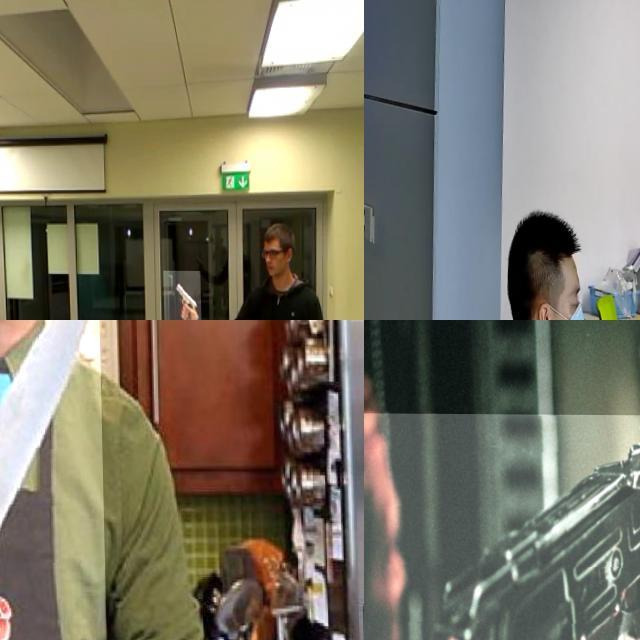-: (0, 320, 123, 640)
gun-knife-thesis - v11 Yolov5 augmented: (364, 412, 640, 640), (161, 270, 200, 320)
